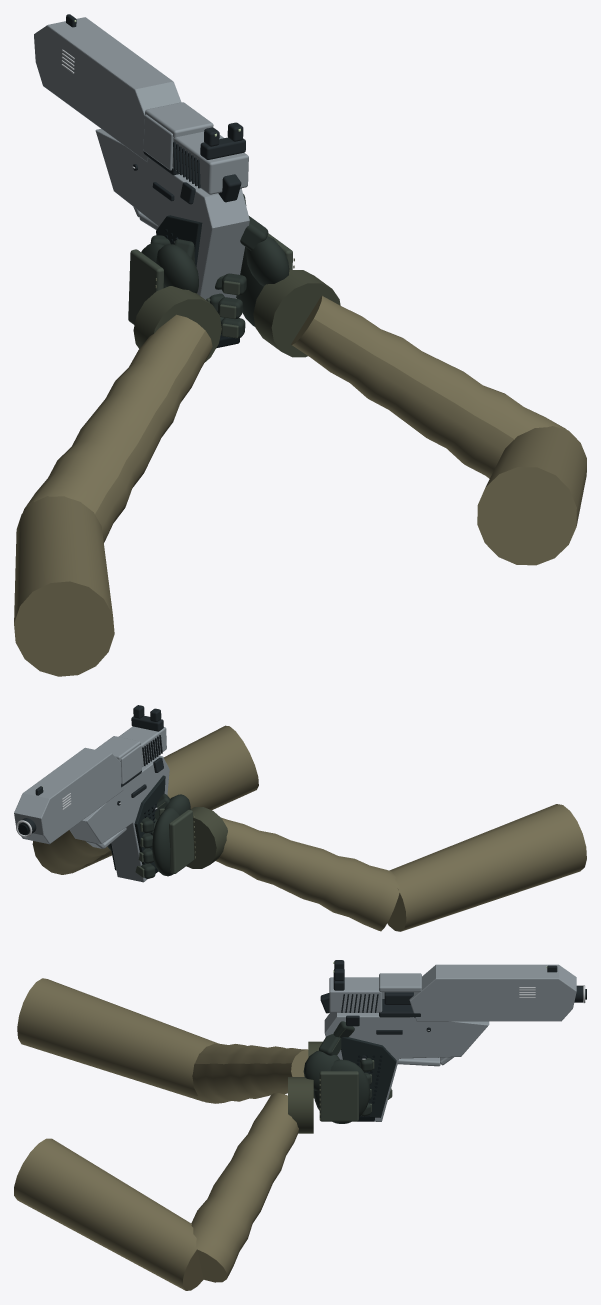
File: deagle-original.glb
3 renders of one model, top to bottom at view 1: azimuth 30°, elevation 25°; view 2: azimuth 150°, elevation 25°; view 3: azimuth 270°, elevation 25°, orthographic. The views are drawn at different scales.
Visible parts, largest first — view 1: Sleeve (×2), DesertEagle_Original, Slide, RightHand, LeftHand; view 2: Sleeve (×2), DesertEagle_Original, LeftHand, Slide; view 3: Sleeve (×2), DesertEagle_Original, RightHand, Slide.
Part boxes in pixels (x1,y1,x2,y2): Sleeve (×2): (14,296,586,676); DesertEagle_Original: (34,14,249,299); Slide: (143,102,248,194); RightHand: (236,233,340,357); LeftHand: (128,242,221,361); Sleeve (×2): (32,725,586,931); DesertEagle_Original: (14,747,169,882); LeftHand: (152,794,227,876); Slide: (95,705,166,787); Sleeve (×2): (14,978,308,1290); DesertEagle_Original: (320,964,586,1121); RightHand: (288,1050,370,1133); Slide: (329,960,421,1017).
Size of the model in its own units: 0.8377 by 0.428 by 0.89.
